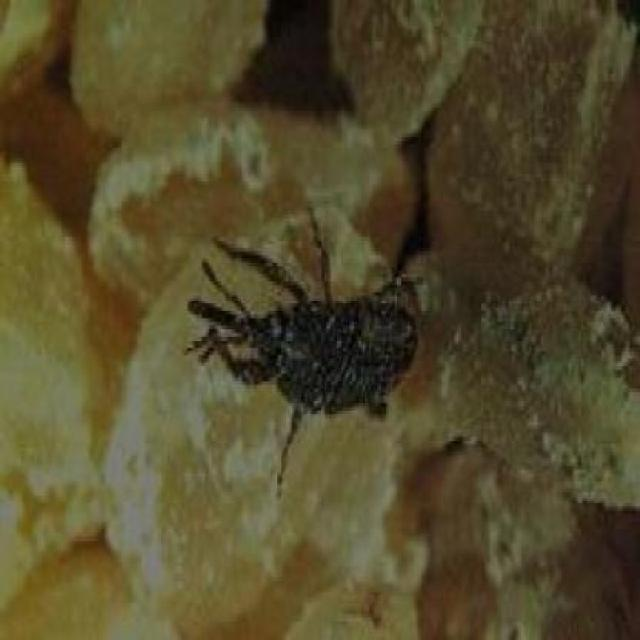rice-bug: (186, 221, 423, 448)
